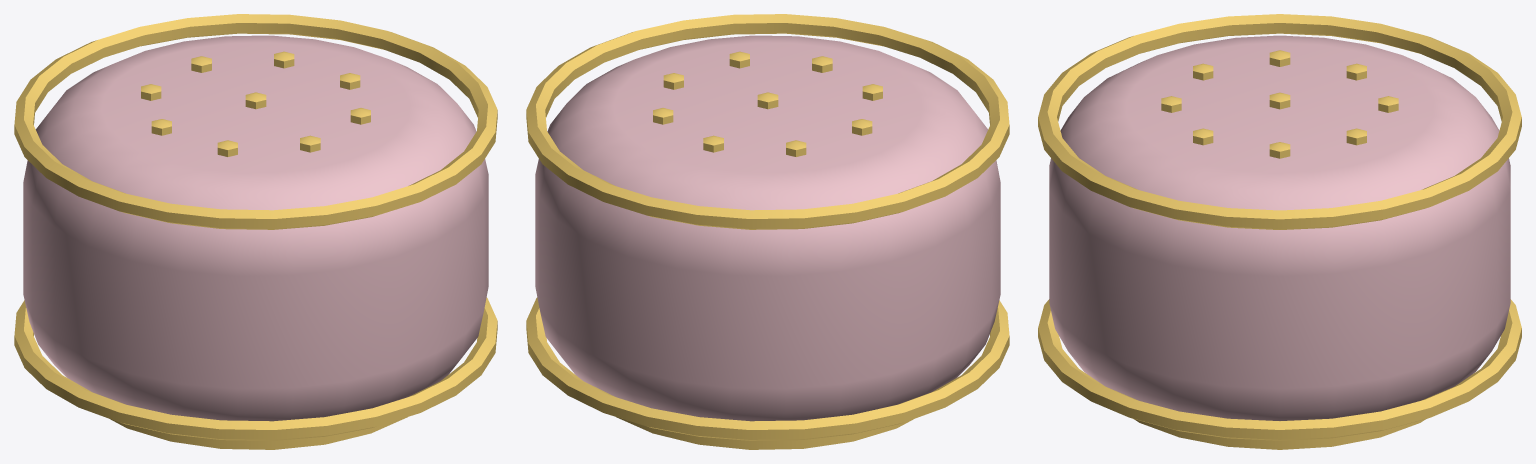
File: pouf_round.glb
The picture shows the model from 3 angles, left to right: view 1: azimuth 30°, elevation 25°; view 2: azimuth 150°, elevation 25°; view 3: azimuth 270°, elevation 25°; orthographic projection.
Visible parts, largest first — view 1: pouf_round; view 2: pouf_round; view 3: pouf_round.
Boxes of the visible parts, box(x1,y1,x2,y2) form: pouf_round: box(14, 14, 497, 449); pouf_round: box(526, 14, 1009, 449); pouf_round: box(1038, 14, 1521, 449).
Bounding box in the file's own units: 0.6242 × 0.395 × 0.6242.
